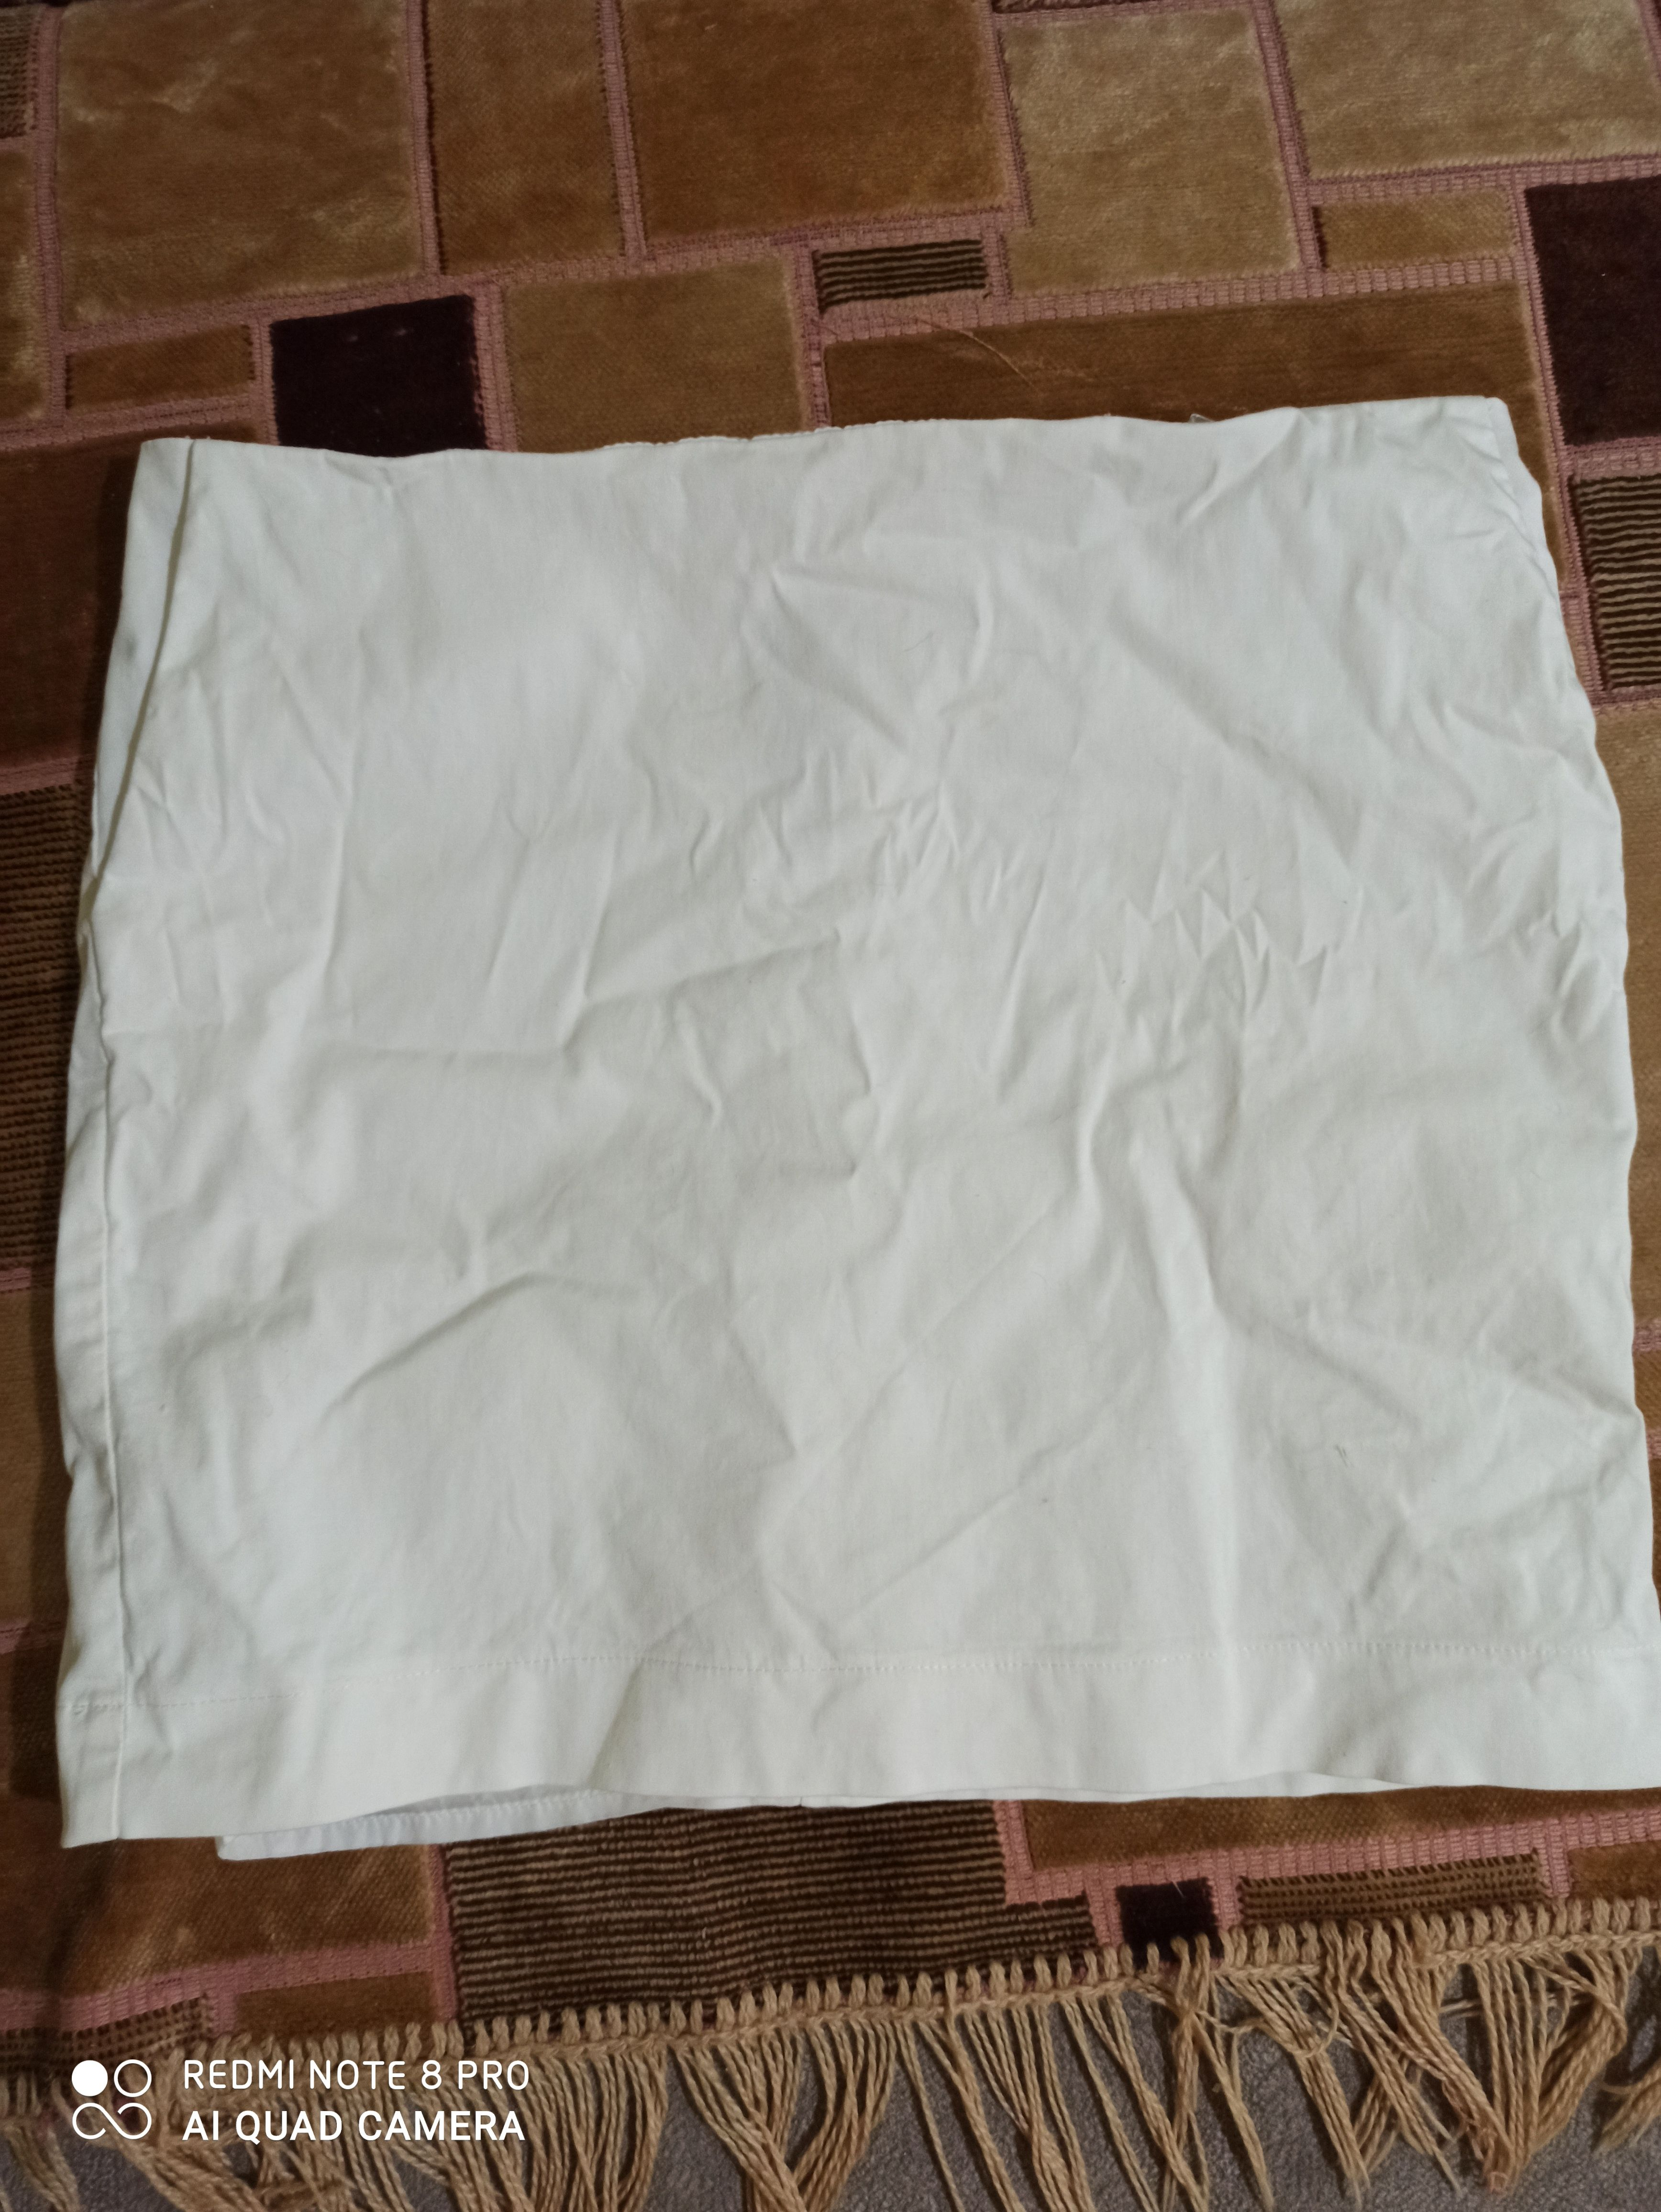clothes: (35, 401, 1661, 1819)
